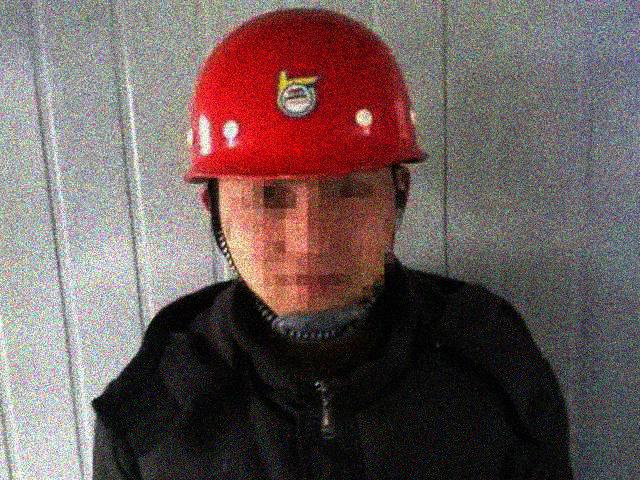helmet: (184, 2, 435, 320)
